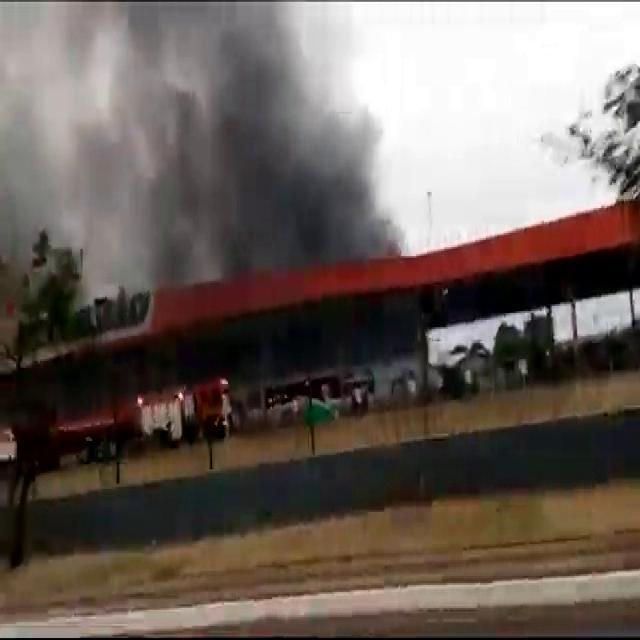Smoke: (0, 0, 392, 279)
